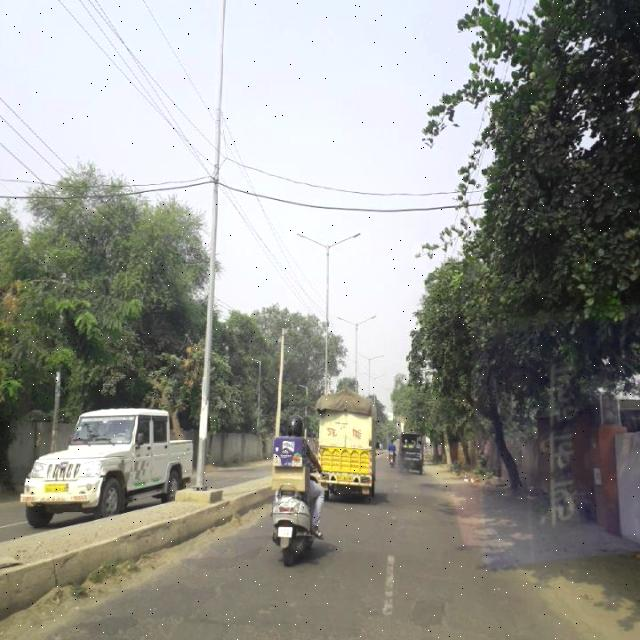D44: (365, 546, 410, 625)
